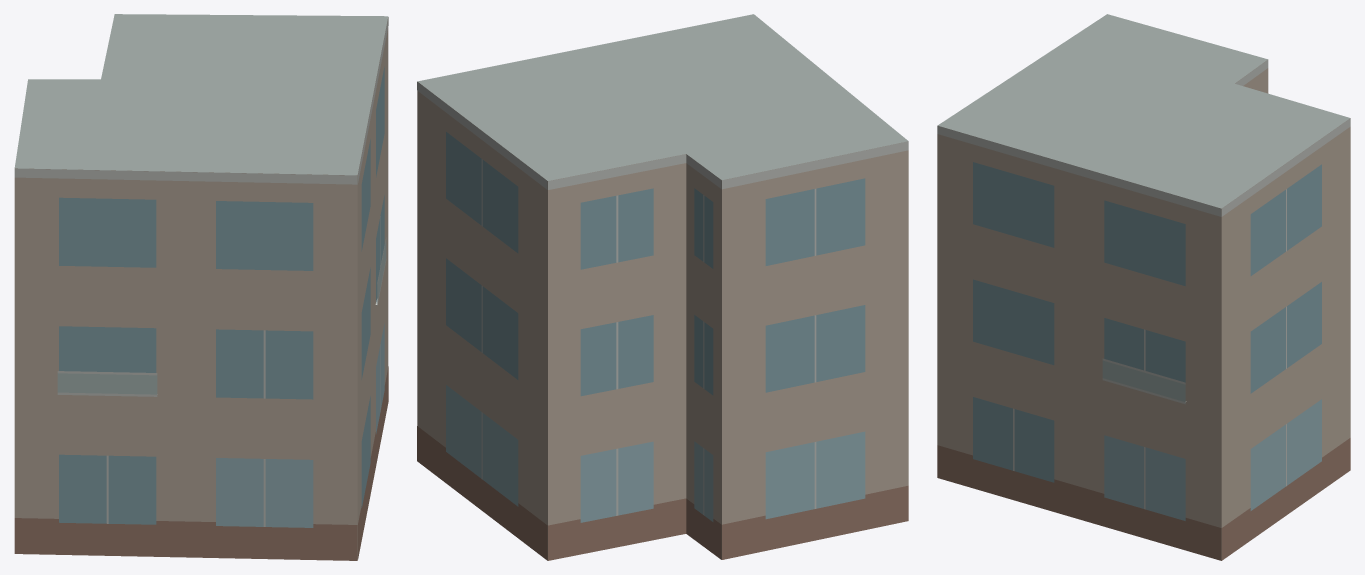
Rendered from survey-upis-33046330.glb.
The picture shows the model from 3 angles, left to right: view 1: azimuth 30°, elevation 25°; view 2: azimuth 150°, elevation 25°; view 3: azimuth 270°, elevation 25°; orthographic projection. The views are drawn at different scales.
Parts seen in each view (by area): view 1: survey-upis-33046330.tmp; view 2: survey-upis-33046330.tmp; view 3: survey-upis-33046330.tmp.
Part boxes in pixels (left/top/right/bottom): survey-upis-33046330.tmp: left=14, top=14, right=388, bottom=560; survey-upis-33046330.tmp: left=417, top=14, right=908, bottom=560; survey-upis-33046330.tmp: left=937, top=14, right=1350, bottom=560.
Bounding box in the file's own units: 12.09 × 10.2 × 10.85.
